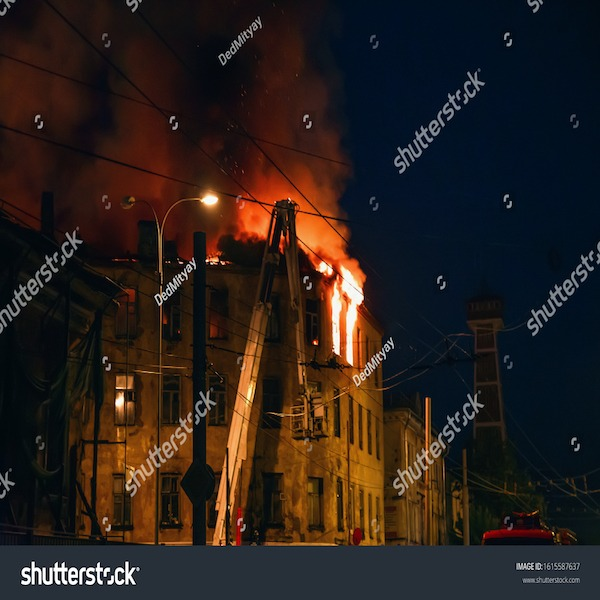fire: (325, 252, 364, 365)
